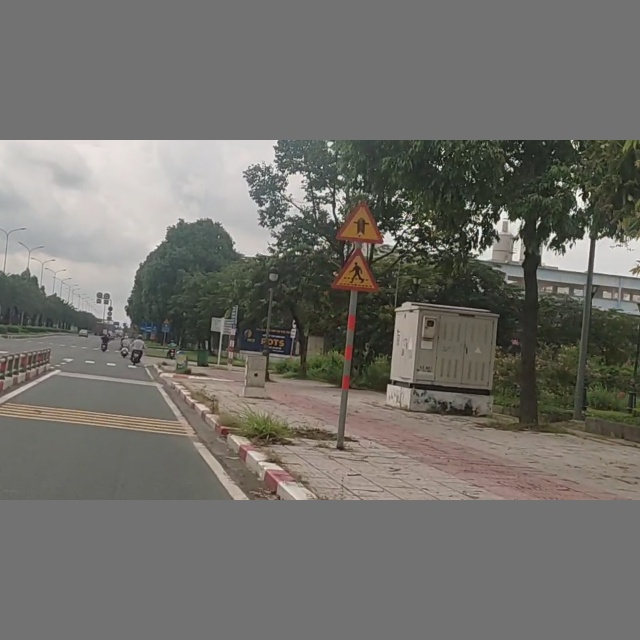W.207: (335, 197, 384, 244)
W.224: (330, 249, 381, 293)
